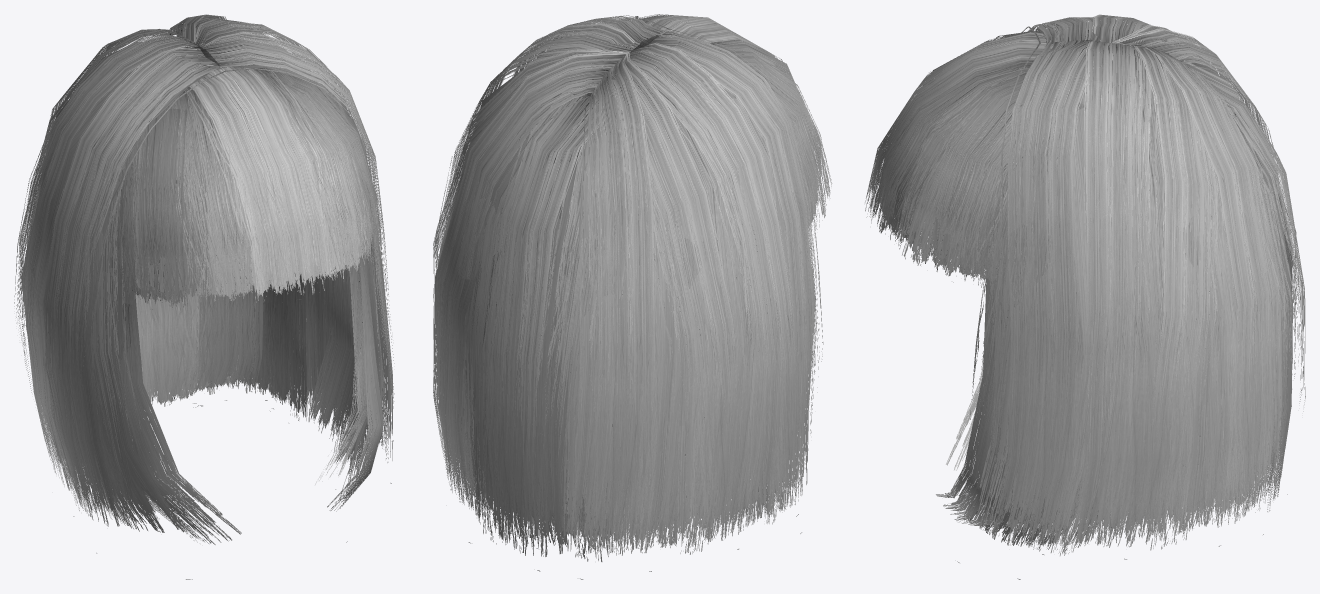
Rendered from hair_witchy_f_light.glb.
3 views of the same model, side by side, from view 1: azimuth 30°, elevation 25°; view 2: azimuth 150°, elevation 25°; view 3: azimuth 270°, elevation 25° (orthographic). The views are drawn at different scales.
Visible parts, largest first — view 1: haircards; view 2: haircards; view 3: haircards.
Part boxes in pixels (bbox=[...]): haircards: bbox=[14, 14, 394, 579]; haircards: bbox=[433, 14, 832, 579]; haircards: bbox=[865, 14, 1305, 579].
Bounding box in the file's own units: 0.2217 × 0.3051 × 0.2476.
1 material, 1 textured.
